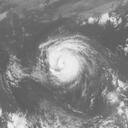cyclone: (36, 35, 94, 88)
